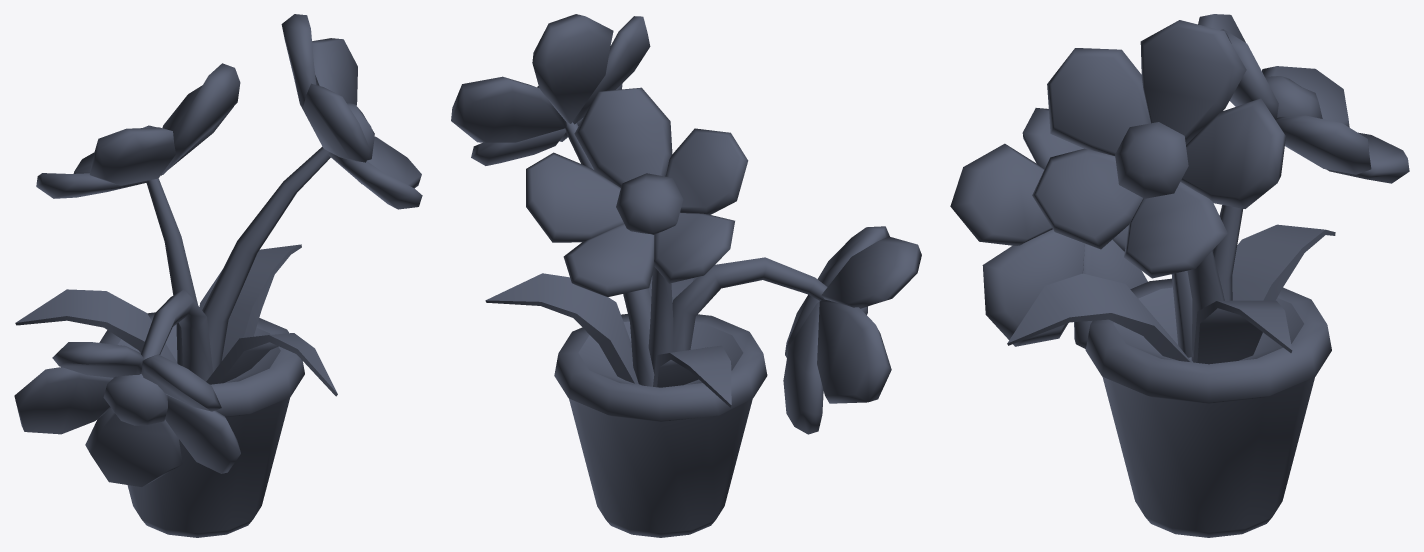
Rendered from Flower.FBX.
3 renders of one model, left to right at view 1: azimuth 30°, elevation 25°; view 2: azimuth 150°, elevation 25°; view 3: azimuth 270°, elevation 25°, orthographic. The views are drawn at different scales.
Visible parts, largest first — view 1: Flower; view 2: Flower; view 3: Flower.
Boxes of the visible parts, <box> form: Flower: <box>14,14,422,537</box>; Flower: <box>451,14,921,537</box>; Flower: <box>950,14,1409,537</box>.
Bounding box in the file's own units: 112 × 125 × 96.28.
